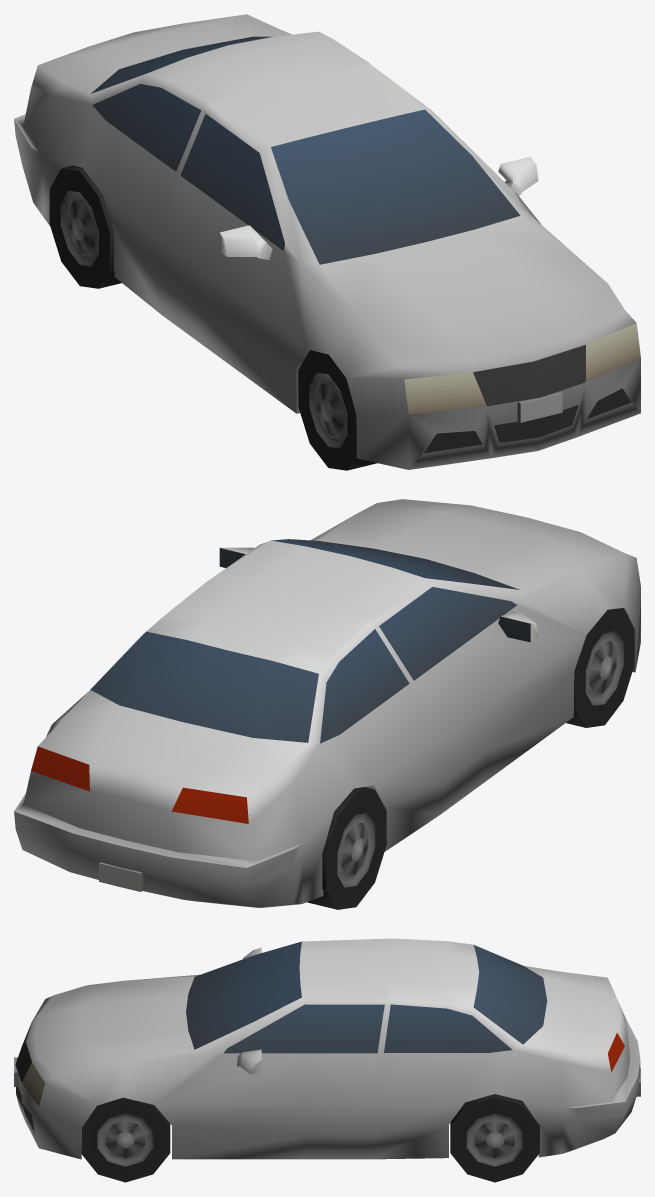
Rendered from vehicles-cars-luxury-sedan_v2.fbx.
The picture shows the model from 3 angles, top to bottom: view 1: azimuth 30°, elevation 25°; view 2: azimuth 150°, elevation 25°; view 3: azimuth 270°, elevation 25°; orthographic projection. The views are drawn at different scales.
Parts seen in each view (by area): view 1: Luxury Sedan_v2; view 2: Luxury Sedan_v2; view 3: Luxury Sedan_v2.
Part boxes in pixels (x1,y1,x2,y2): Luxury Sedan_v2: [14, 14, 640, 470]; Luxury Sedan_v2: [14, 499, 640, 909]; Luxury Sedan_v2: [14, 938, 640, 1182].
Bounding box in the file's own units: 2.09 × 1.45 × 4.9.
